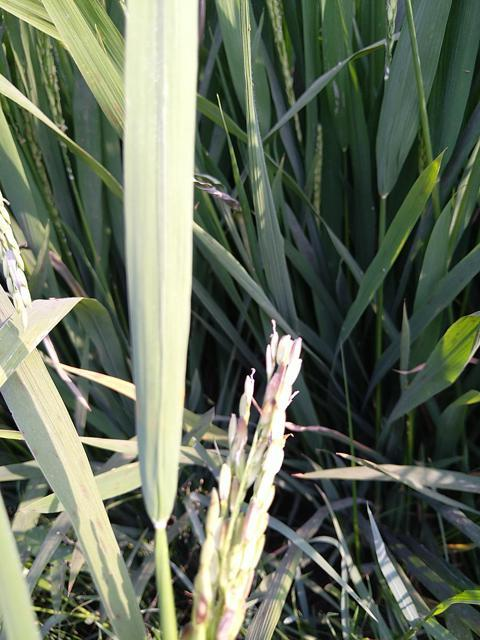Panicle Blight: (219, 336, 295, 557), (216, 585, 236, 639), (191, 580, 209, 639)
